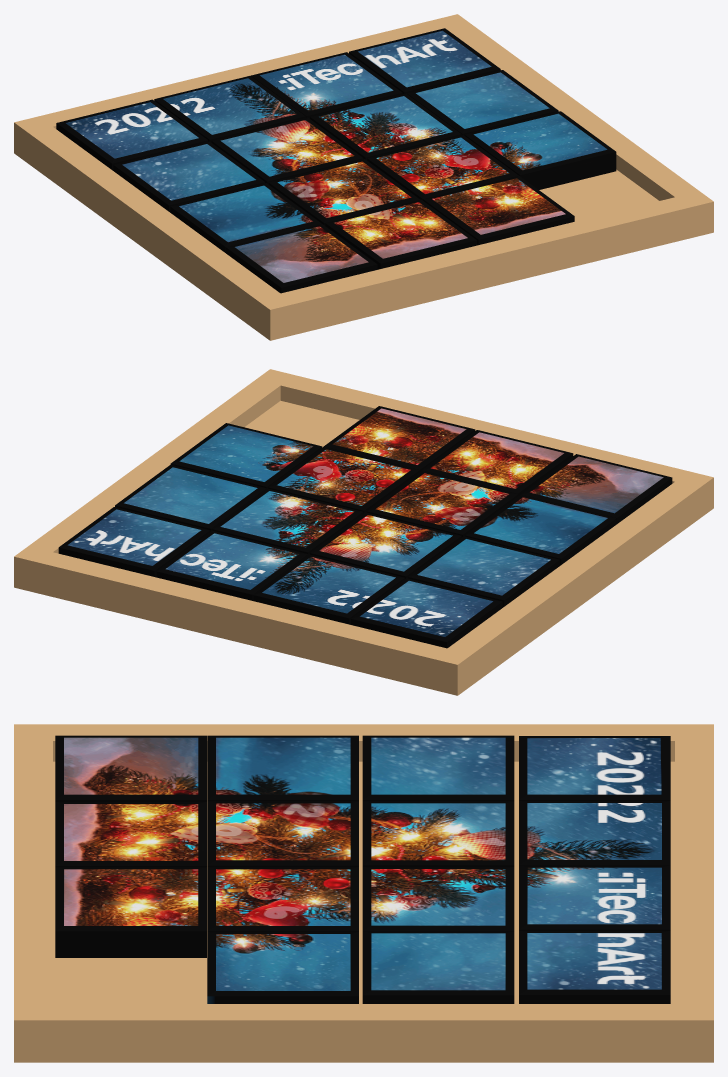
The model's file is fifteen_puzzle.glb.
3 renders of one model, top to bottom at view 1: azimuth 30°, elevation 25°; view 2: azimuth 150°, elevation 25°; view 3: azimuth 270°, elevation 25°, orthographic. The views are drawn at different scales.
Parts seen in each view (by area): view 1: Fifteen Base, Move Piece.012, Move Piece.013, Move Piece.014, Move Piece.015, Move Piece.004, Move Piece.009, Move Piece.007, Move Piece.003, Move Piece.005, Move Piece.001, Move Piece.006 (+4 smaller); view 2: Fifteen Base, Move Piece.004, Move Piece.003, Move Piece.001, Move Piece.002, Move Piece.009, Move Piece.007, Move Piece.013, Move Piece.005, Move Piece.006, Move Piece.011, Move Piece.010 (+4 smaller); view 3: Fifteen Base, Move Piece.015, Move Piece.008, Move Piece.003, Move Piece.012, Move Piece.009, Move Piece.007, Move Piece.013, Move Piece.006, Move Piece.002, Move Piece.010, Move Piece.014 (+4 smaller).
Part boxes in pixels (x1,y1,x2,y2): Fifteen Base: [14, 14, 713, 340]; Move Piece.012: [464, 111, 616, 189]; Move Piece.013: [226, 224, 377, 293]; Move Piece.014: [325, 199, 476, 269]; Move Piece.015: [423, 175, 574, 245]; Move Piece.004: [56, 99, 207, 170]; Move Piece.009: [113, 141, 264, 212]; Move Piece.007: [170, 183, 321, 252]; Move Piece.003: [349, 28, 500, 93]; Move Piece.005: [310, 93, 461, 160]; Move Piece.001: [154, 75, 305, 142]; Move Piece.006: [211, 117, 363, 184]; Fifteen Base: [14, 369, 713, 695]; Move Piece.004: [351, 578, 502, 648]; Move Piece.003: [58, 507, 210, 577]; Move Piece.001: [253, 554, 404, 624]; Move Piece.002: [156, 530, 307, 600]; Move Piece.009: [408, 536, 559, 607]; Move Piece.007: [465, 495, 616, 565]; Move Piece.013: [521, 454, 672, 523]; Move Piece.005: [211, 488, 363, 554]; Move Piece.006: [310, 512, 461, 578]; Move Piece.011: [268, 446, 419, 513]; Move Piece.010: [366, 470, 518, 537]; Fifteen Base: [14, 724, 713, 1062]; Move Piece.015: [55, 867, 206, 957]; Move Piece.008: [362, 931, 514, 1003]; Move Piece.003: [519, 931, 670, 1003]; Move Piece.012: [207, 932, 358, 1003]; Move Piece.009: [362, 735, 514, 801]; Move Piece.007: [207, 735, 358, 801]; Move Piece.013: [55, 735, 206, 801]; Move Piece.006: [362, 801, 514, 866]; Move Piece.002: [519, 865, 670, 930]; Move Piece.010: [207, 801, 358, 866]; Move Piece.014: [55, 802, 206, 867].
Size of the model in its own units: 0.5942 by 0.0469 by 0.5942.
Materials: 16 (15 with a texture image).
